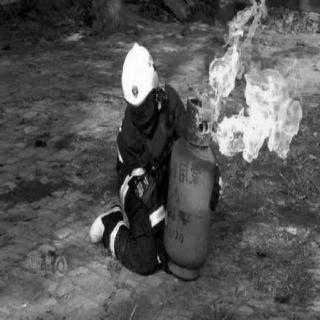other: (88, 169, 140, 257), (149, 202, 167, 230)
